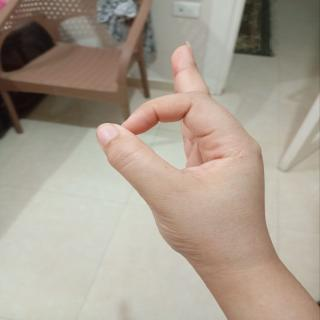Space: (89, 32, 282, 264)
